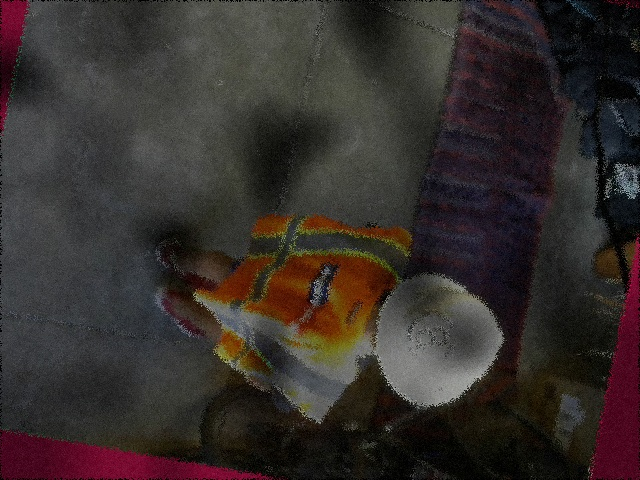eight: (401, 307, 462, 369)
